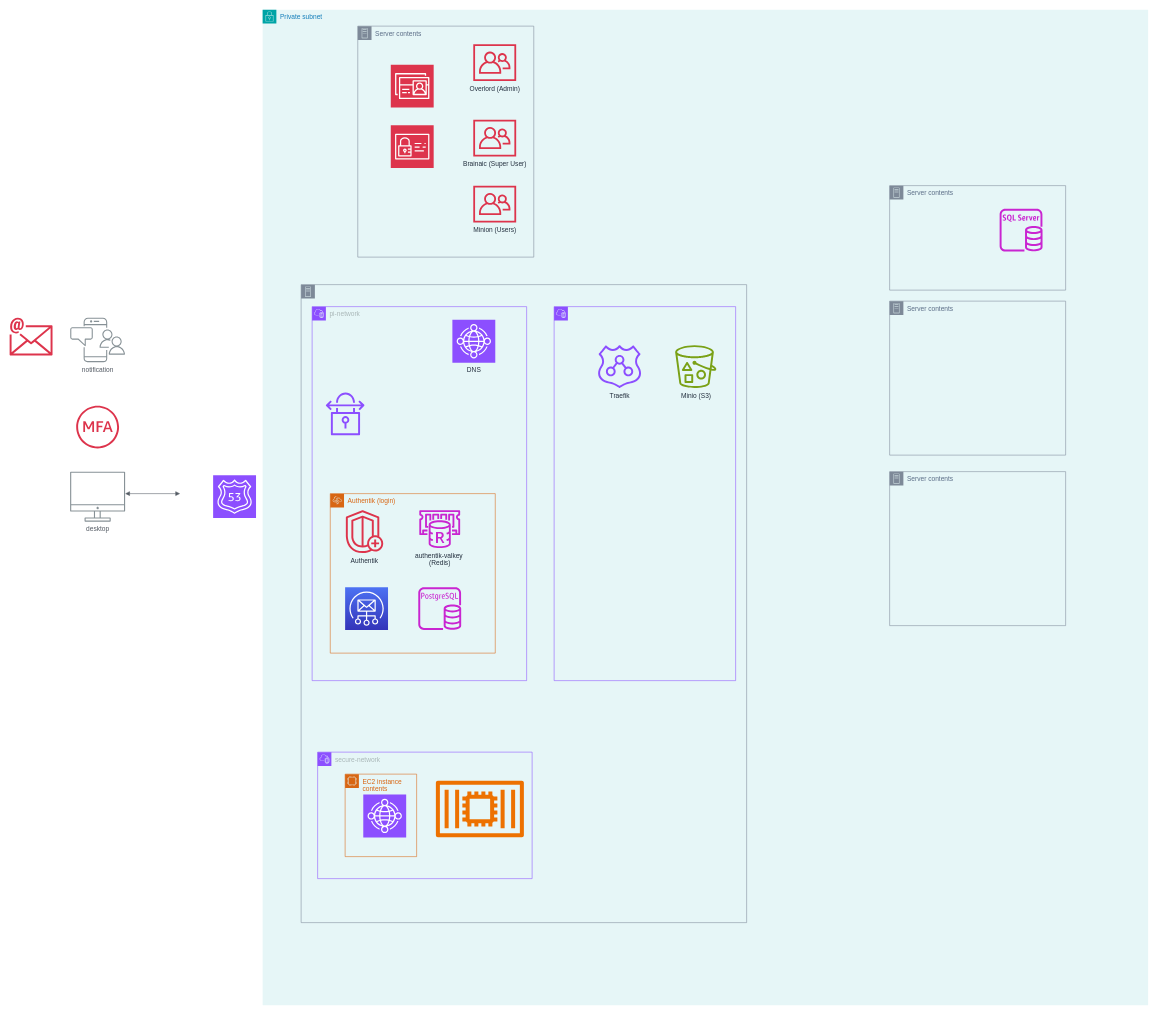
The diagram is 1158 pixels wide and 1015 high, and some of its shapes have lost their labels. The shapes that lost their labels are listed below. From the top down, each one's box as (x1, y1, x2, y2) in pixels, then its label:
(390, 64, 434, 108): Directory Service
(390, 125, 434, 168): Identity & Access Management
(326, 392, 364, 435): Cloudflare Tunnel
(213, 475, 256, 518): Cloudflare DNS
(554, 306, 736, 681): traefik-network
(345, 587, 388, 630): PureMail POP
(418, 587, 461, 630): authentik-postgres
(301, 284, 747, 923): FC-Controller
(363, 794, 406, 837): Ghost
(436, 780, 524, 837): KASM
